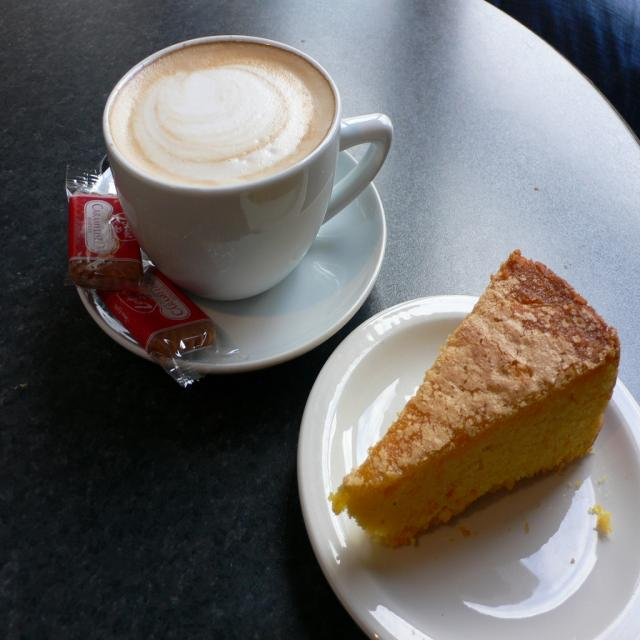latte: (99, 34, 339, 196)
